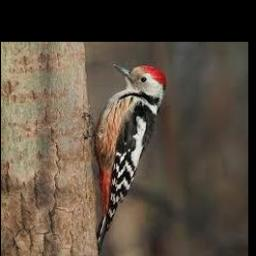Woodpecker: (83, 64, 166, 255)
